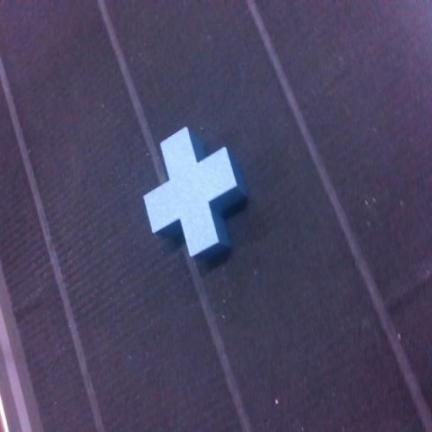cross: (145, 128, 246, 256)
